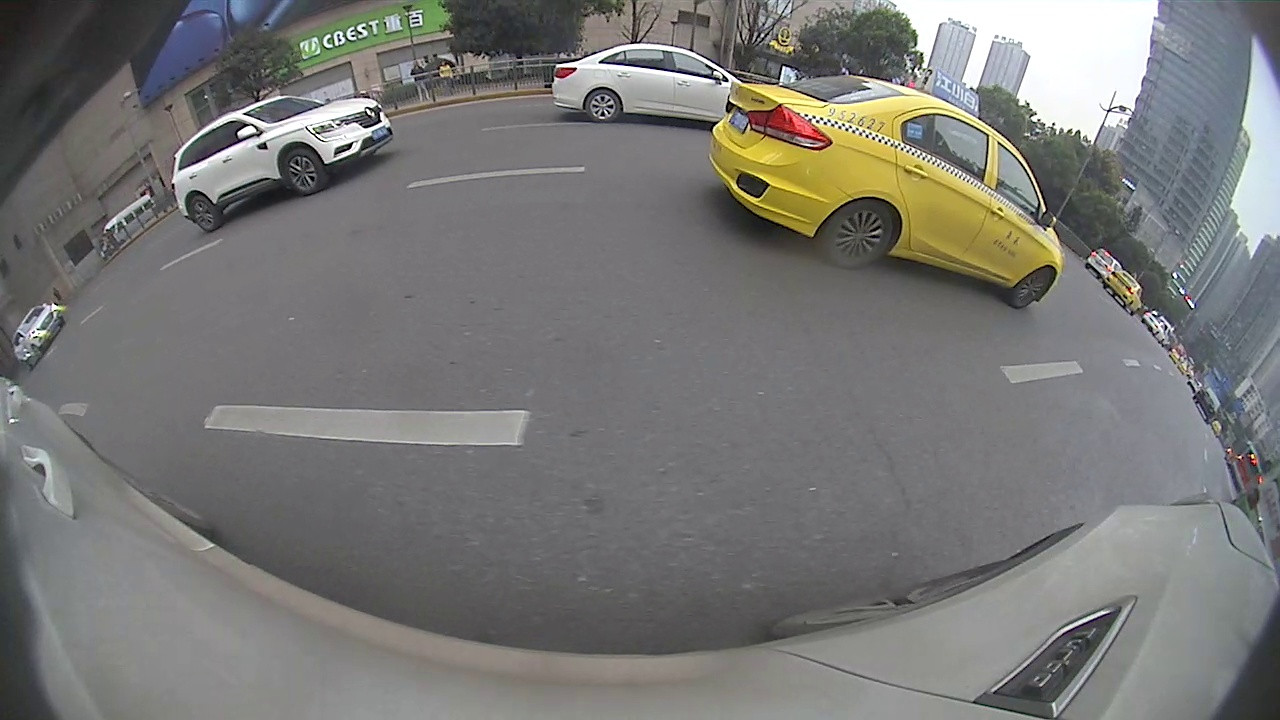car: (707, 66, 1065, 311), (169, 93, 396, 232), (549, 41, 743, 126), (1102, 264, 1144, 317), (1082, 244, 1123, 284)
front: (282, 146, 325, 198), (1008, 267, 1059, 308)
rear: (818, 197, 897, 269), (183, 193, 221, 235), (585, 89, 621, 122)
